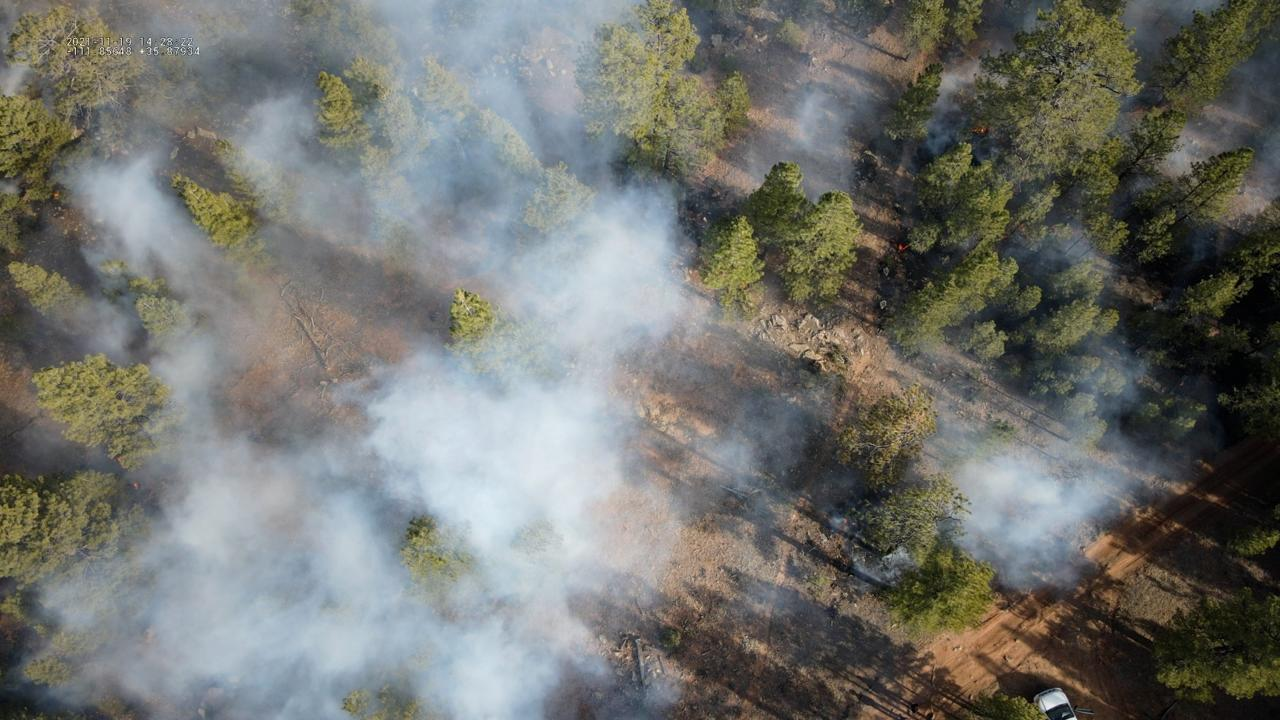fire: (968, 126, 986, 135), (897, 242, 907, 253), (51, 190, 61, 200), (132, 482, 140, 491), (842, 518, 850, 525)
smoke: (0, 0, 1280, 720)
